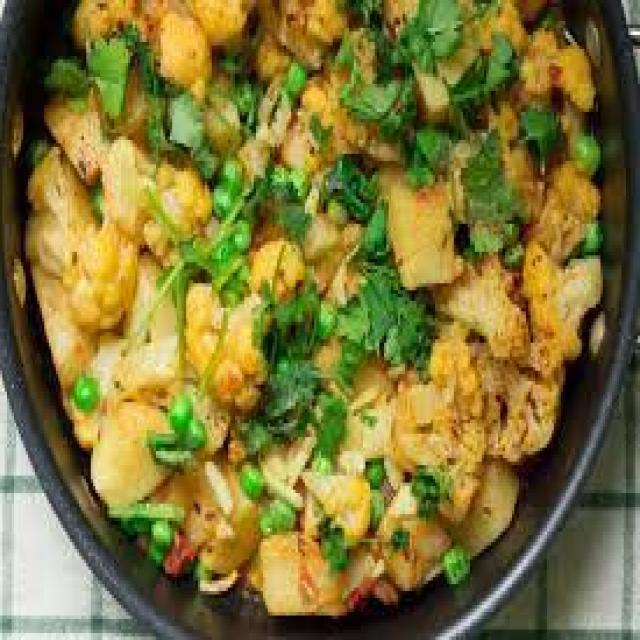Aloo Gobi: (147, 19, 506, 570)
